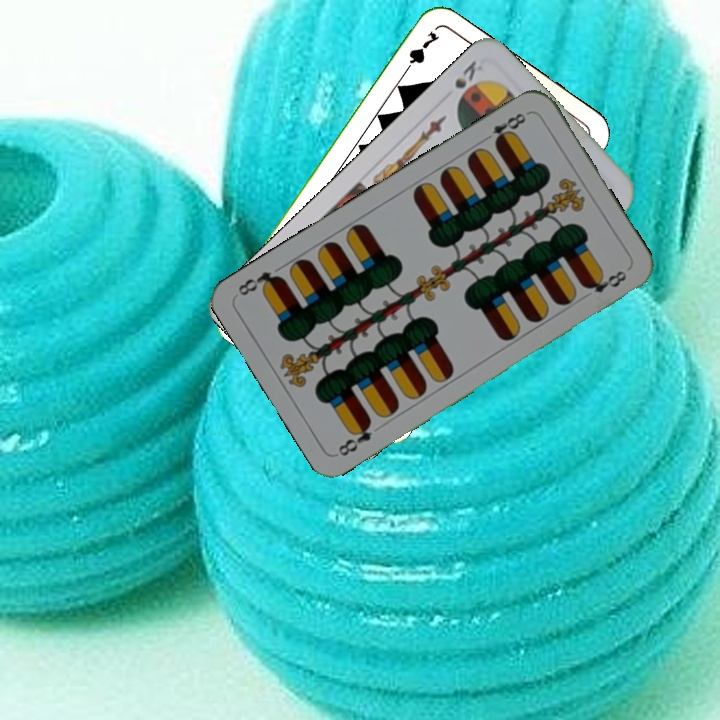E8: (478, 109, 532, 149), (334, 415, 375, 459)
G7: (398, 26, 442, 79)
SK: (450, 56, 486, 91)
